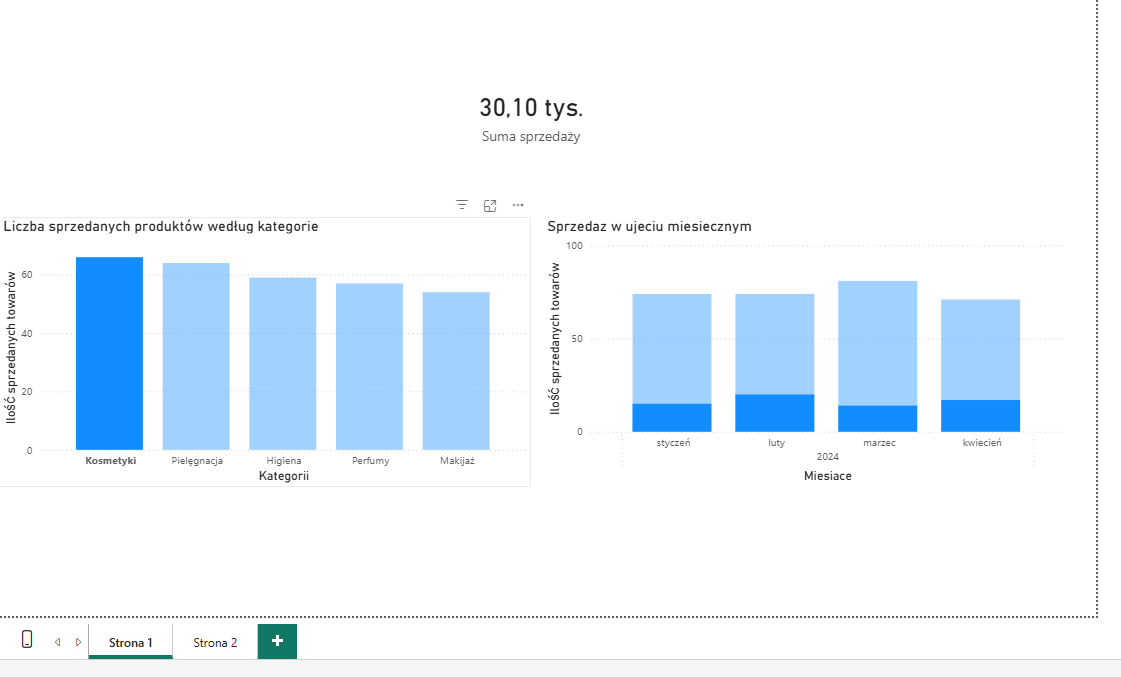

The page's visual inventory and layout, read from the dashboard file:
{"tool":"powerbi","page":{"name":"Strona 1","canvas":[1280,720],"ordinal":0},"visuals":[{"type":"card","fields":{"Values":["Sum(sales_data.total)"]},"box":[441,88,370.4,104.2],"z":0},{"type":"clusteredColumnChart","title":"Liczba sprzedanych produktów według kategorie","fields":{"Category":["sales_data.category"],"Y":["CountNonNull(sales_data.total)"]},"box":[10.4,258.3,615.8,312.5],"z":1000},{"type":"clusteredColumnChart","title":"Sprzedaz w ujeciu miesiecznym","fields":{"Y":["CountNonNull(sales_data.total)"],"Category":["sales_data.date.Odmiana.Hierarchia dat.Rok","sales_data.date.Odmiana.Hierarchia dat.Miesiąc"]},"box":[640.1,258.1,608.9,312.5],"z":2000}]}

Visuals, with their boxes on the page's 1280x720 design canvas (x1, y1, x2, y2). These are canvas units, not pixel positions in the 1121x677 screenshot, which may show the page scaled, cropped or inside an application window:
card - Sum(sales_data.total): <box>441,88,811,192</box>
"Liczba sprzedanych produktów według kategorie" clusteredColumnChart: <box>10,258,626,571</box>
"Sprzedaz w ujeciu miesiecznym" clusteredColumnChart: <box>640,258,1249,571</box>
